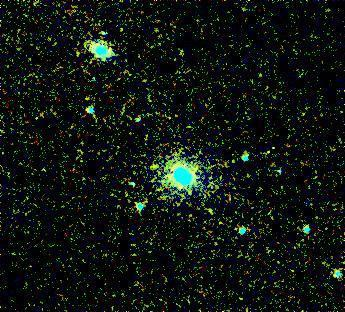star: (139, 155, 169, 185)
